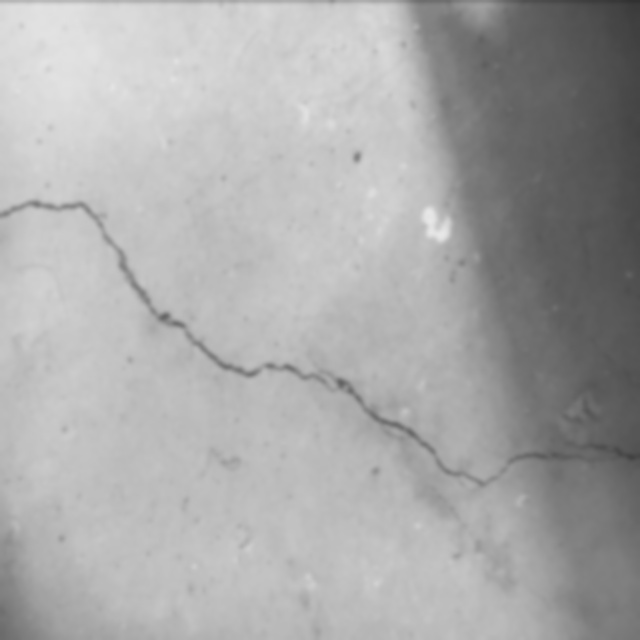SurfaceCrack: (1, 164, 640, 538)
